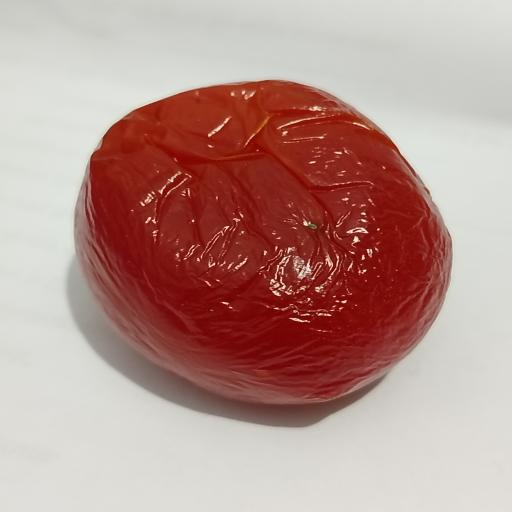spoiled: (76, 81, 451, 403)
